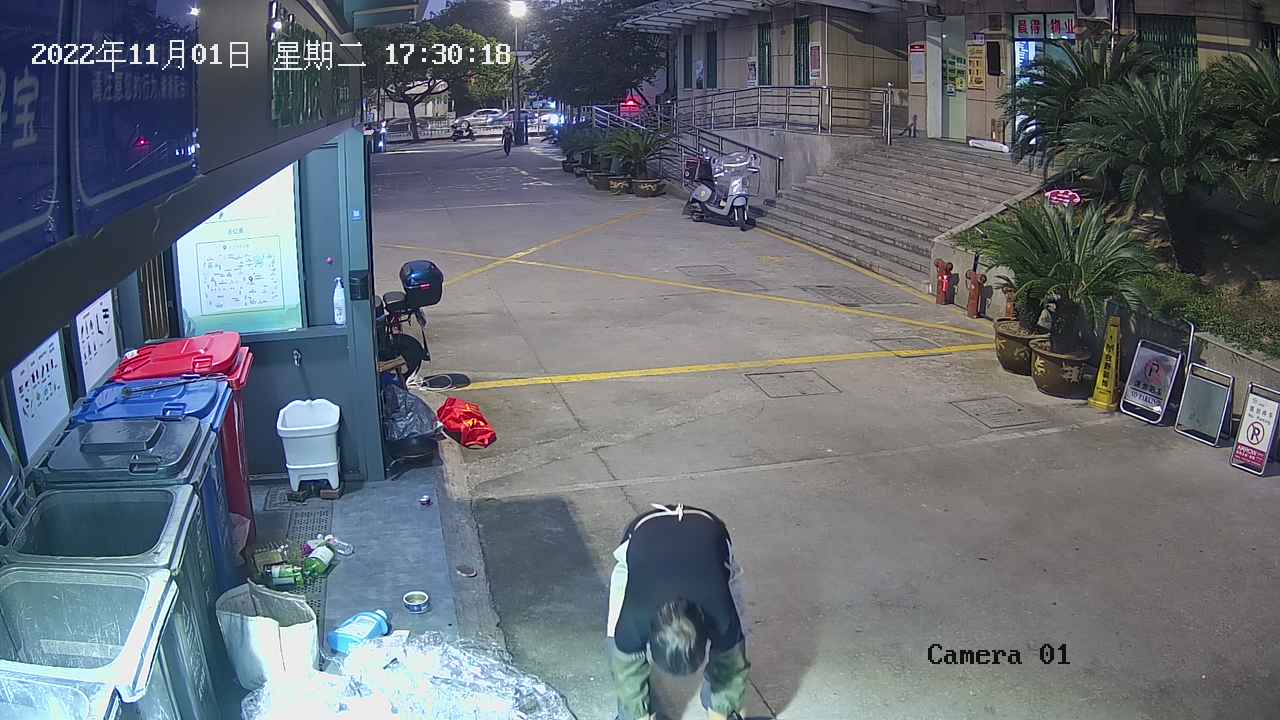garbage: (237, 630, 578, 720)
garbage-bag: (215, 575, 322, 692)
lvzhipin: (402, 589, 433, 615), (455, 561, 478, 579)
person: (603, 498, 752, 720)
suliaozhipin: (247, 530, 356, 588), (327, 607, 395, 657)
